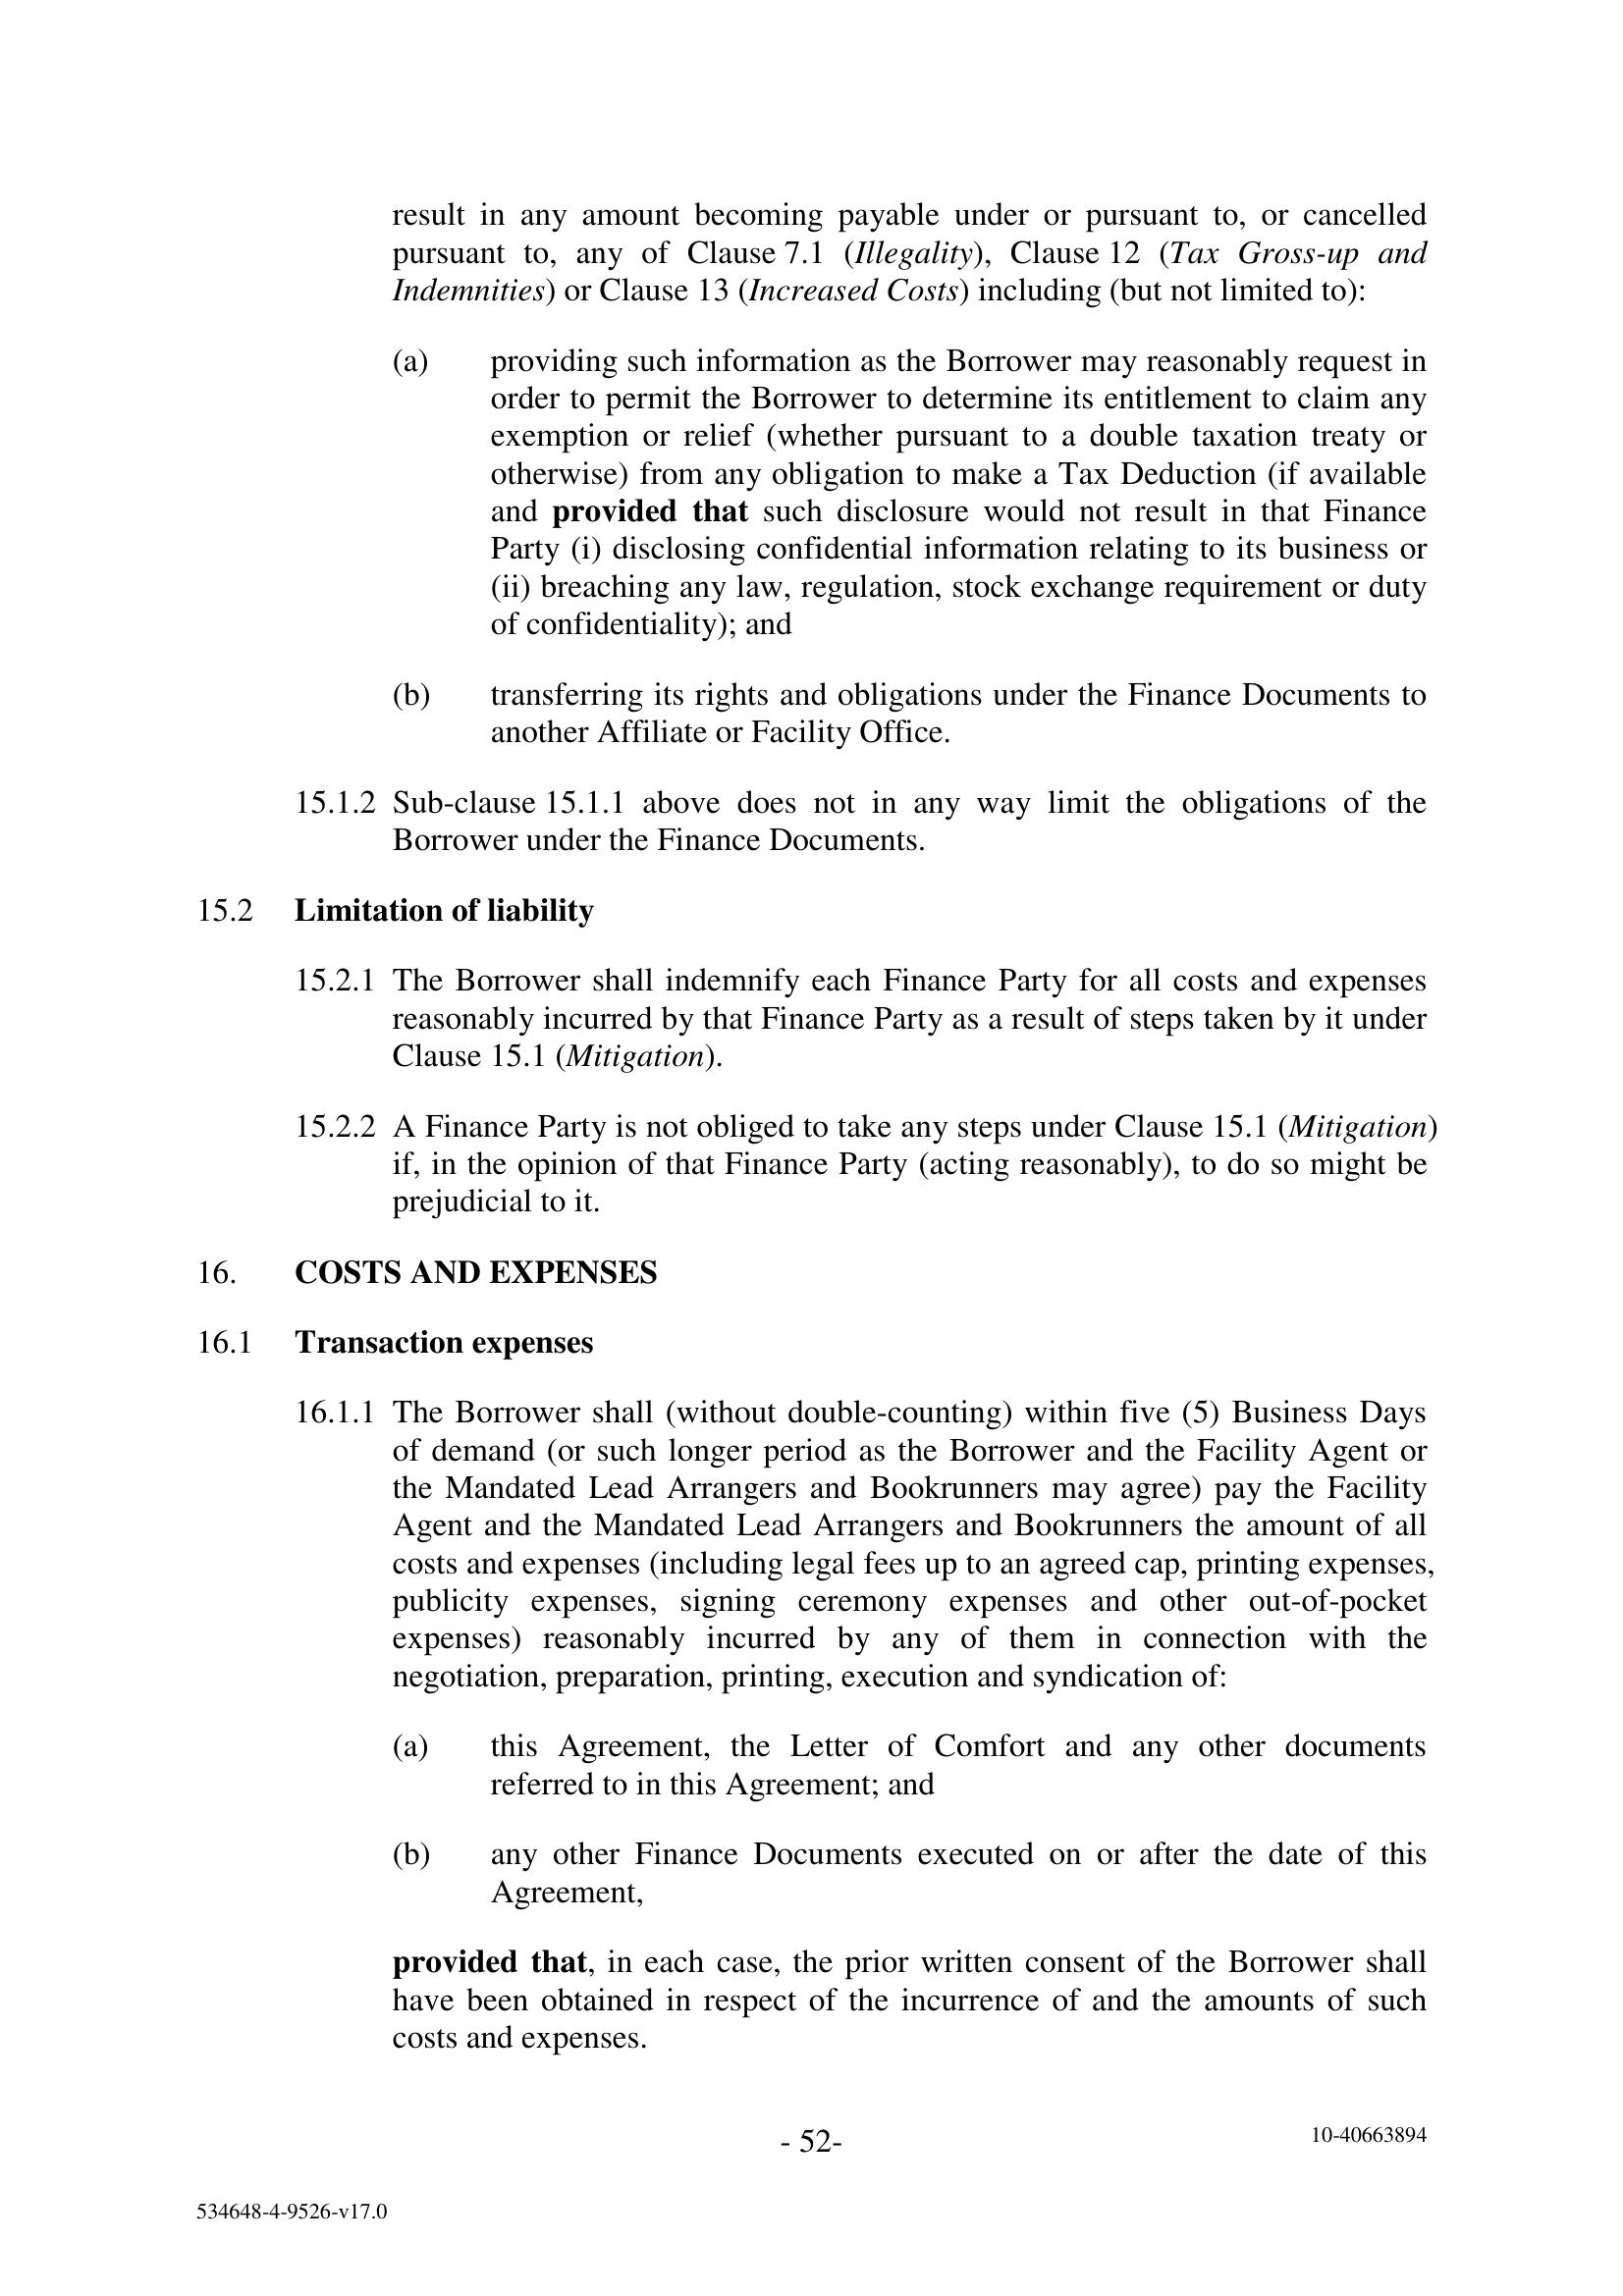pageno: (724, 2091, 903, 2210)
tag: (105, 2166, 497, 2261), (1194, 2091, 1546, 2185)
